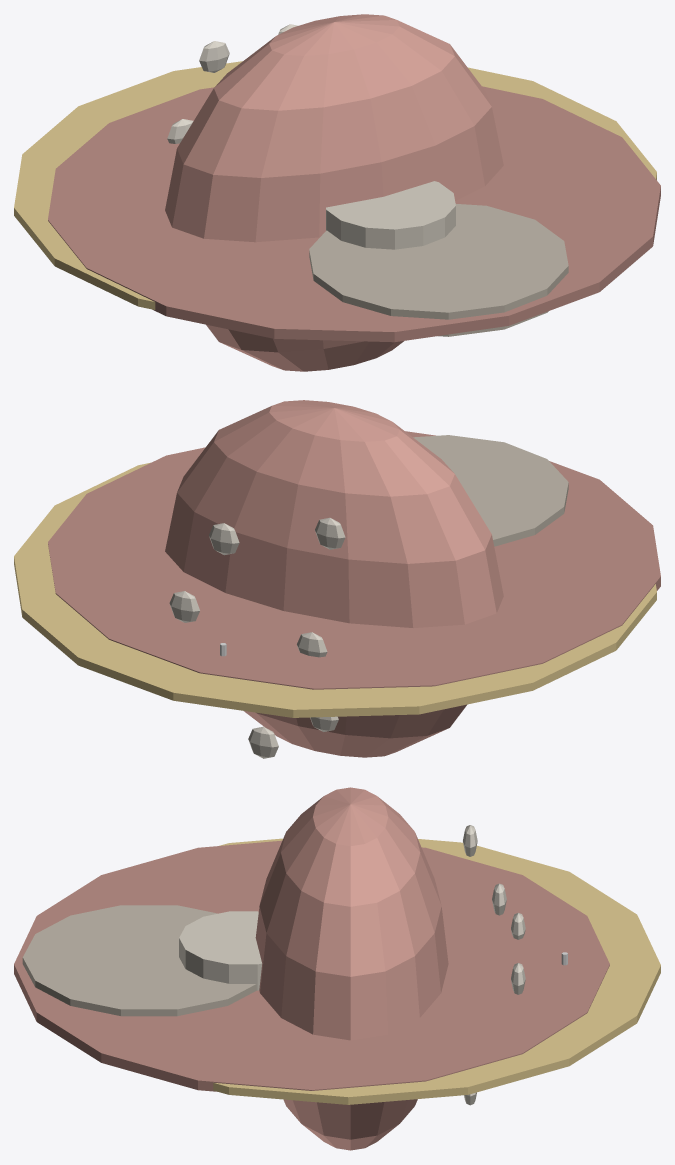
Rendered from tower_red_inner.fbx.
3 views of the same model, one above another, from view 1: azimuth 30°, elevation 25°; view 2: azimuth 150°, elevation 25°; view 3: azimuth 270°, elevation 25° (orthographic). The views are drawn at different scales.
Visible parts, largest first — view 1: Top_Cap, Body; view 2: Top_Cap, Body; view 3: Top_Cap, Body.
Part boxes in pixels (box(x1,y1,x2,y2)): Top_Cap: box(14, 14, 660, 371); Body: box(309, 181, 568, 336); Top_Cap: box(14, 400, 660, 758); Body: box(413, 435, 568, 546); Top_Cap: box(14, 787, 660, 1150); Body: box(22, 905, 262, 1016).
Size of the model in its own units: 292 by 170 by 302.
